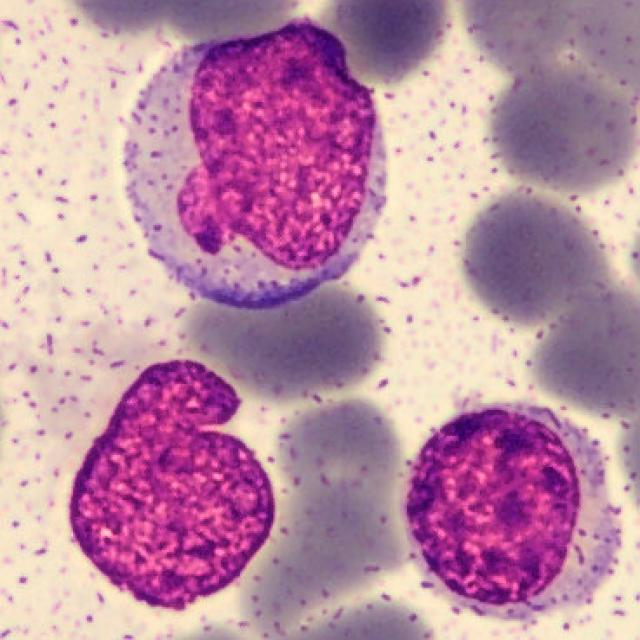Mieloblasto: (118, 21, 388, 311), (70, 362, 278, 611), (403, 403, 621, 618)
